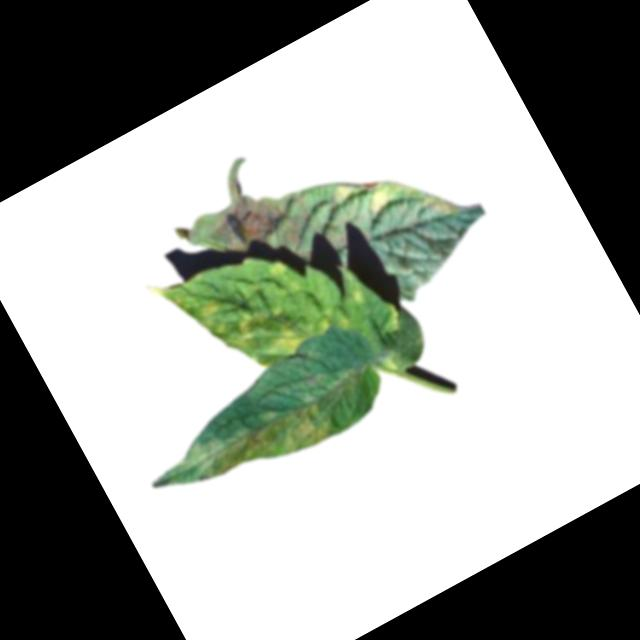Leaf_Mold: (143, 380, 340, 525), (327, 136, 459, 260), (267, 312, 314, 359), (227, 300, 277, 344), (192, 296, 226, 329)
